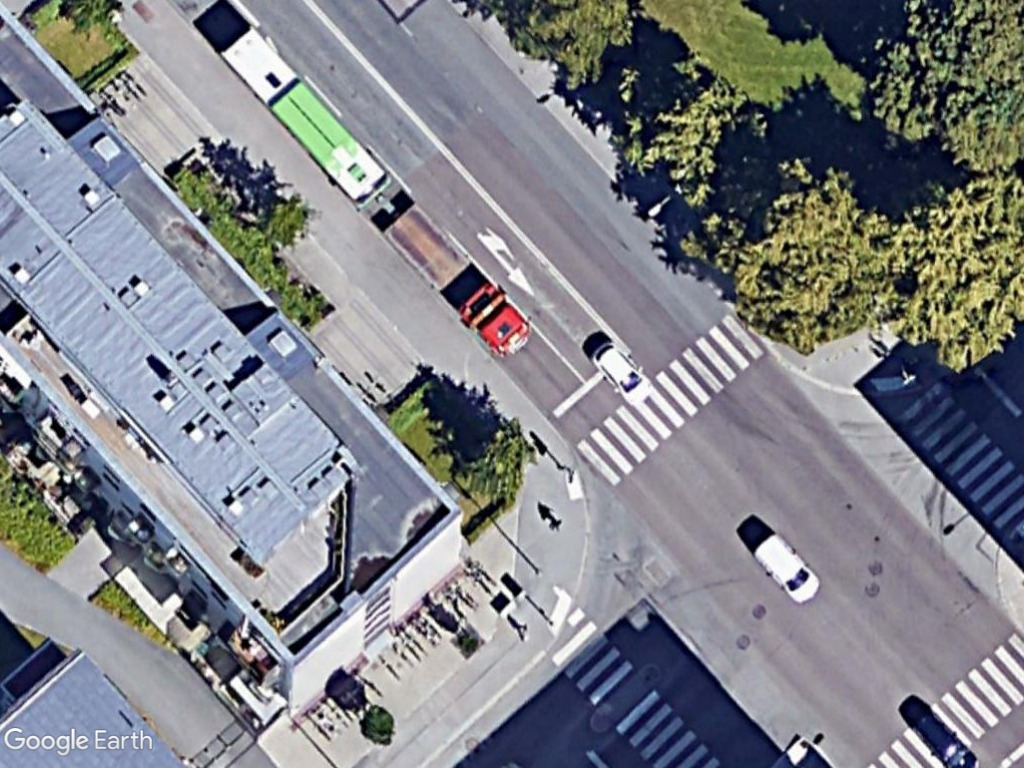bus: (220, 24, 397, 214)
car: (589, 337, 657, 408)
van: (752, 530, 824, 607)
